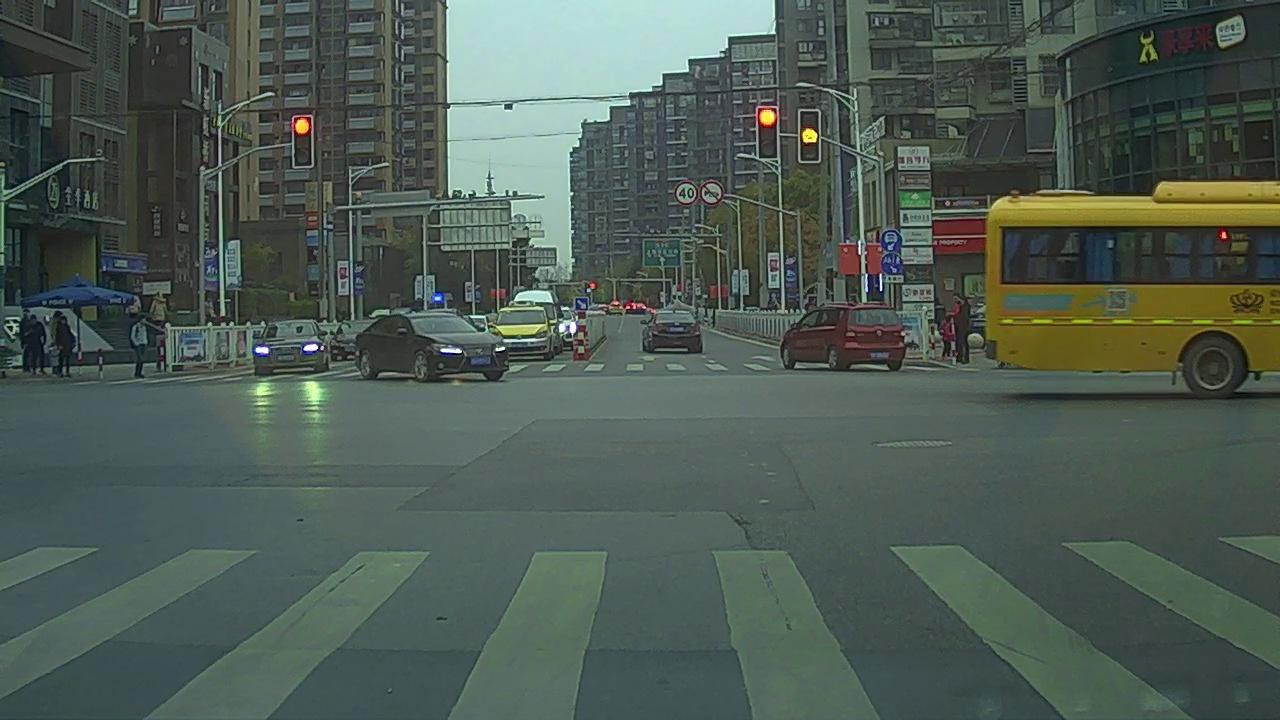traffic_light: (799, 110, 822, 165), (756, 105, 778, 159), (292, 112, 313, 164)
